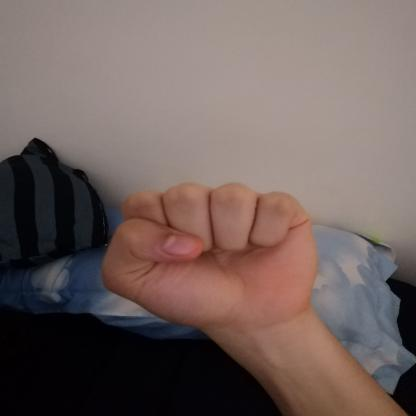SAD: (79, 167, 350, 350)
